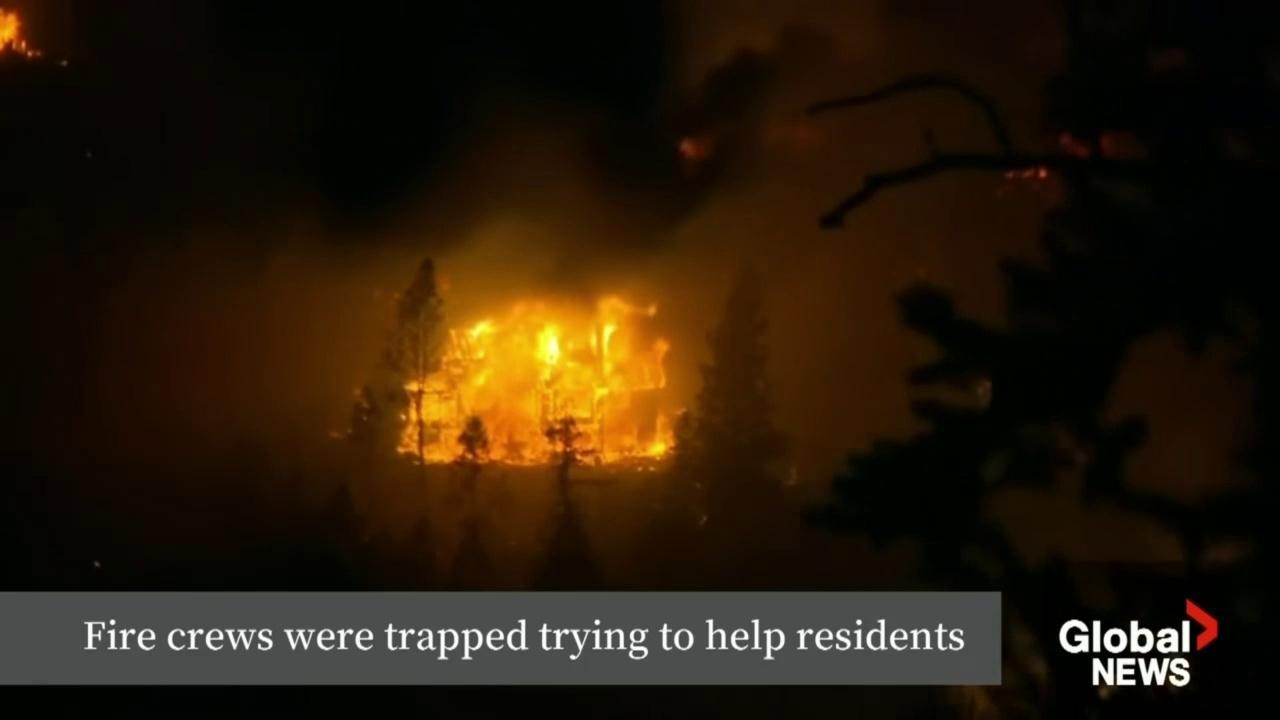fire: (390, 284, 693, 473), (0, 0, 49, 62), (997, 156, 1052, 185), (679, 130, 718, 166)
smoke: (61, 0, 1280, 589)
